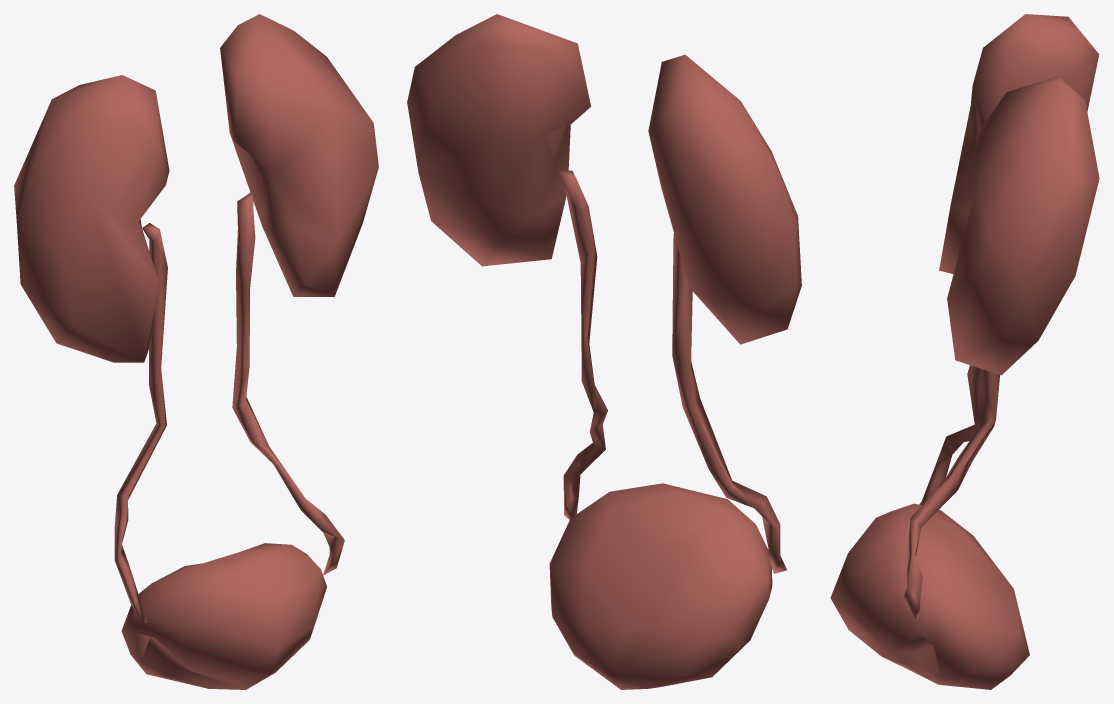
The model's file is pediatric_infant_male.urinary.LOD3.glb.
3 renders of one model, left to right at view 1: azimuth 30°, elevation 25°; view 2: azimuth 150°, elevation 25°; view 3: azimuth 270°, elevation 25°, orthographic. The views are drawn at different scales.
Parts seen in each view (by area): view 1: PEDIATRIC.INFANT.MALE.URINARY.KIDNEY_CORTEX.R, PEDIATRIC.INFANT.MALE.URINARY.KIDNEY_CORTEX.L, PEDIATRIC.INFANT.MALE.URINARY.URINARY_BLADDER_WALL, PEDIATRIC.INFANT.MALE.URINARY.URETER.L, PEDIATRIC.INFANT.MALE.URINARY.URETER.R; view 2: PEDIATRIC.INFANT.MALE.URINARY.URINARY_BLADDER_WALL, PEDIATRIC.INFANT.MALE.URINARY.KIDNEY_CORTEX.L, PEDIATRIC.INFANT.MALE.URINARY.KIDNEY_CORTEX.R, PEDIATRIC.INFANT.MALE.URINARY.URETER.R, PEDIATRIC.INFANT.MALE.URINARY.URETER.L; view 3: PEDIATRIC.INFANT.MALE.URINARY.KIDNEY_CORTEX.L, PEDIATRIC.INFANT.MALE.URINARY.URINARY_BLADDER_WALL, PEDIATRIC.INFANT.MALE.URINARY.KIDNEY_CORTEX.R, PEDIATRIC.INFANT.MALE.URINARY.URETER.L, PEDIATRIC.INFANT.MALE.URINARY.URETER.R.
Boxes of the visible parts, bbox=[...] form: PEDIATRIC.INFANT.MALE.URINARY.KIDNEY_CORTEX.R: bbox=[14, 75, 169, 362]; PEDIATRIC.INFANT.MALE.URINARY.KIDNEY_CORTEX.L: bbox=[220, 14, 378, 296]; PEDIATRIC.INFANT.MALE.URINARY.URINARY_BLADDER_WALL: bbox=[121, 543, 326, 689]; PEDIATRIC.INFANT.MALE.URINARY.URETER.L: bbox=[232, 191, 344, 575]; PEDIATRIC.INFANT.MALE.URINARY.URETER.R: bbox=[114, 223, 167, 623]; PEDIATRIC.INFANT.MALE.URINARY.URINARY_BLADDER_WALL: bbox=[549, 483, 772, 689]; PEDIATRIC.INFANT.MALE.URINARY.KIDNEY_CORTEX.L: bbox=[407, 14, 590, 266]; PEDIATRIC.INFANT.MALE.URINARY.KIDNEY_CORTEX.R: bbox=[648, 54, 801, 344]; PEDIATRIC.INFANT.MALE.URINARY.URETER.R: bbox=[672, 233, 786, 573]; PEDIATRIC.INFANT.MALE.URINARY.URETER.L: bbox=[557, 170, 607, 519]; PEDIATRIC.INFANT.MALE.URINARY.KIDNEY_CORTEX.L: bbox=[947, 76, 1099, 375]; PEDIATRIC.INFANT.MALE.URINARY.URINARY_BLADDER_WALL: bbox=[830, 503, 1029, 689]; PEDIATRIC.INFANT.MALE.URINARY.KIDNEY_CORTEX.R: bbox=[939, 14, 1099, 274]; PEDIATRIC.INFANT.MALE.URINARY.URETER.L: bbox=[902, 369, 999, 618]; PEDIATRIC.INFANT.MALE.URINARY.URETER.R: bbox=[919, 365, 982, 505].
Size of the model in its own units: 0.0974 by 0.1662 by 0.0628.
